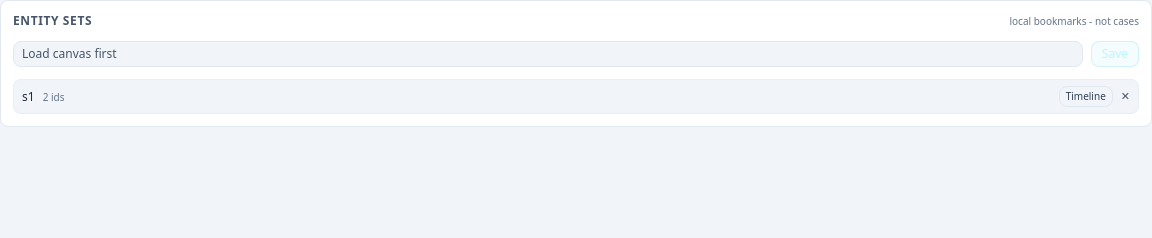
Test: EntitySetPanel polish › shows per-entity decision counts in the timeline header
What coordinates should you click on to do the following:
click the button with test id "entity-set-timeline-s1"
I would click on:
 (1086, 96)
Its box is [1059,86,1113,107].
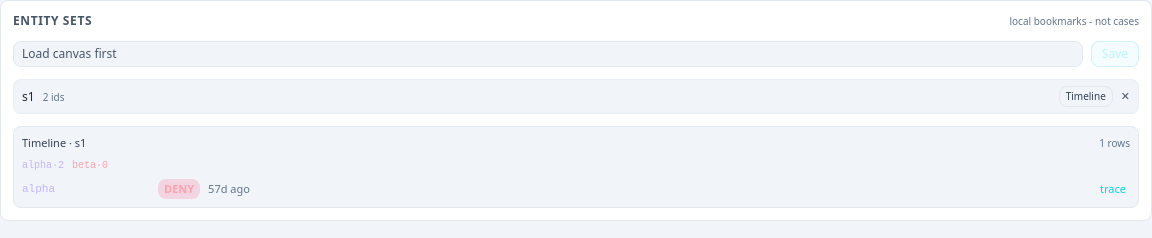
Check: the text "1 rows" is shown, box [1099,136,1130,151]
Check: the element with test id "timeline-entity-counts" shows "alpha", box [22,160,52,170]
Check: the element with test id "timeline-entity-counts" shows "beta", box [72,160,96,170]
